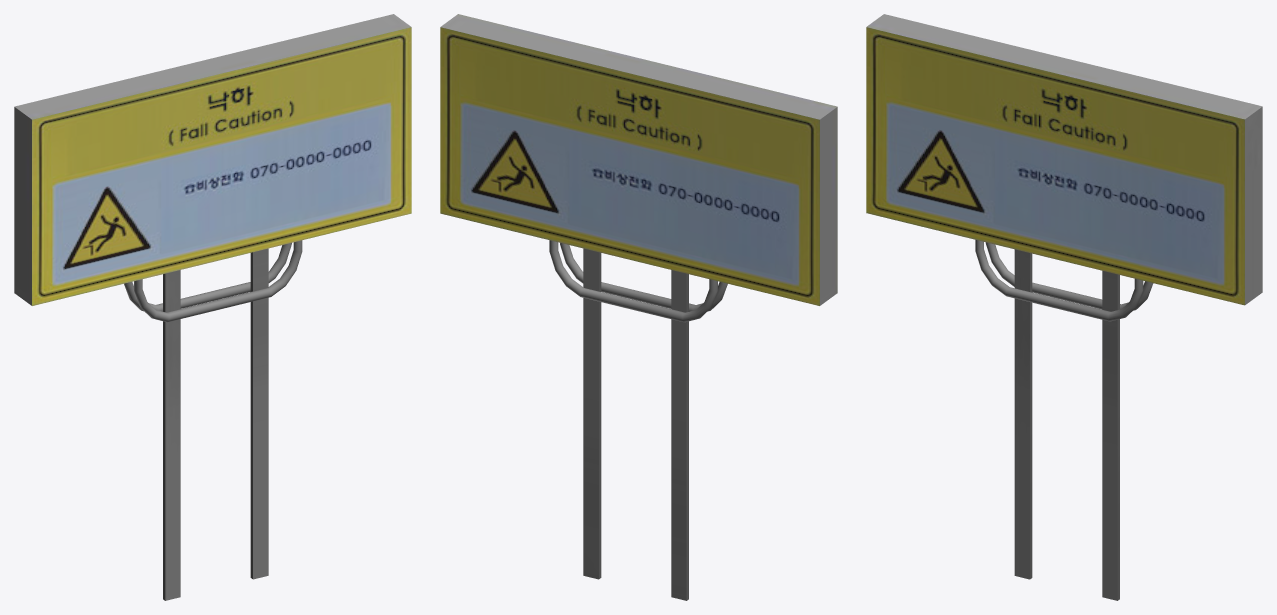
File: cautionFall.gltf
3 renders of one model, left to right at view 1: azimuth 30°, elevation 25°; view 2: azimuth 150°, elevation 25°; view 3: azimuth 330°, elevation 25°, orthographic.
Visible parts, largest first — view 1: fall; view 2: fall; view 3: fall.
Boxes of the visible parts, x1,y1,x2,y2 form: fall: (14,14,411,600); fall: (440,14,837,600); fall: (866,14,1262,600).
Bounding box in the file's own units: 21.53 × 28.25 × 1.76.
Materials: 1 (1 with a texture image).
